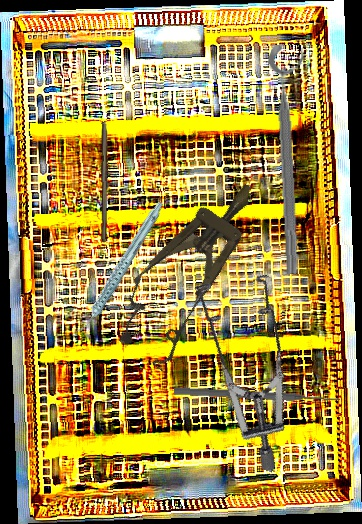Fixation Ring: (267, 43, 318, 275)
Handpiece: (50, 198, 188, 337)
Pusher: (173, 385, 341, 406)
Scalpel Handle: (99, 121, 111, 242)
Speculum: (141, 252, 340, 473), (100, 163, 282, 374)
